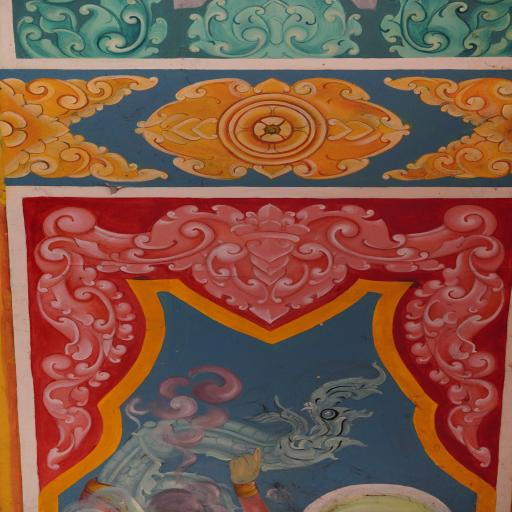hoa: (132, 72, 415, 180), (0, 80, 70, 174), (473, 103, 512, 151)
la: (112, 199, 448, 327), (389, 205, 512, 476), (26, 204, 141, 476), (182, 0, 368, 61), (13, 0, 175, 63), (379, 1, 512, 62), (22, 130, 170, 182), (379, 72, 512, 124), (26, 74, 161, 124), (383, 130, 512, 181)
than: (222, 445, 460, 512)
